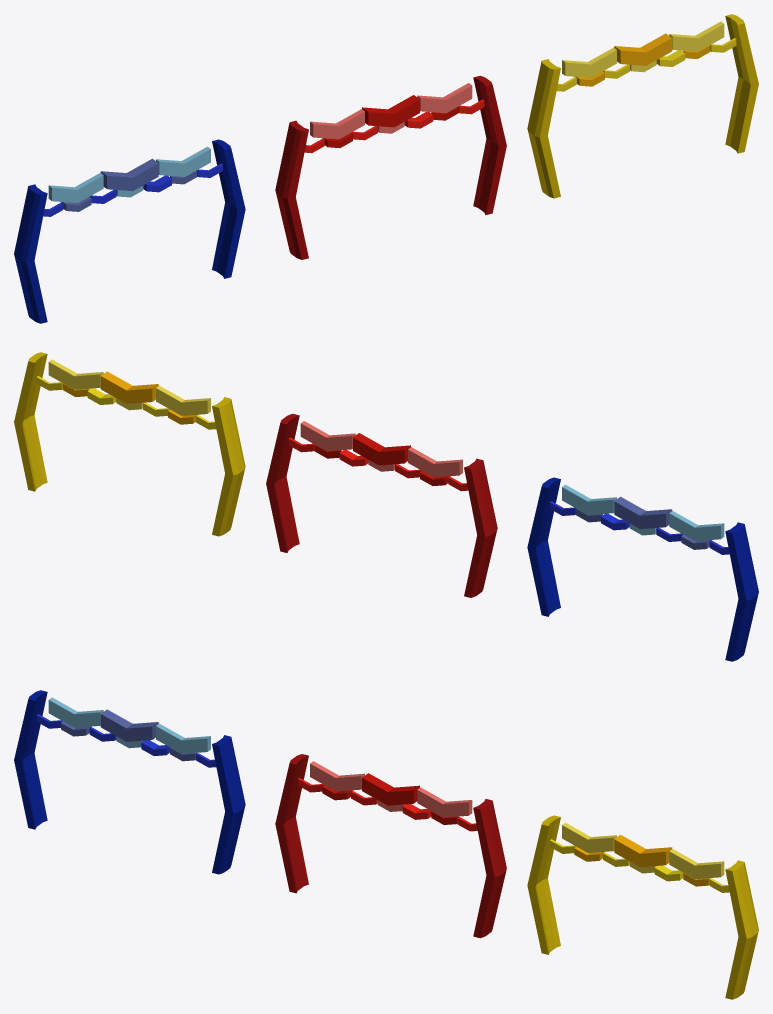
The model's file is colorShowers.fbx.
3 renders of one model, top to bottom at view 1: azimuth 30°, elevation 25°; view 2: azimuth 150°, elevation 25°; view 3: azimuth 330°, elevation 25°, orthographic.
Visible parts, largest first — view 1: showerYellow, showerBlue, showerRed; view 2: showerYellow, showerBlue, showerRed; view 3: showerBlue, showerYellow, showerRed.
Part boxes in pixels (box(x1,y1,x2,y2)): showerYellow: box(527, 14, 758, 198); showerBlue: box(14, 139, 245, 323); showerRed: box(275, 75, 506, 259); showerYellow: box(14, 352, 245, 536); showerBlue: box(527, 477, 758, 661); showerRed: box(266, 413, 497, 597); showerBlue: box(14, 690, 245, 874); showerYellow: box(527, 815, 758, 999); showerRed: box(275, 754, 506, 938).
Size of the model in its own units: 2386 by 398 by 69.38.
